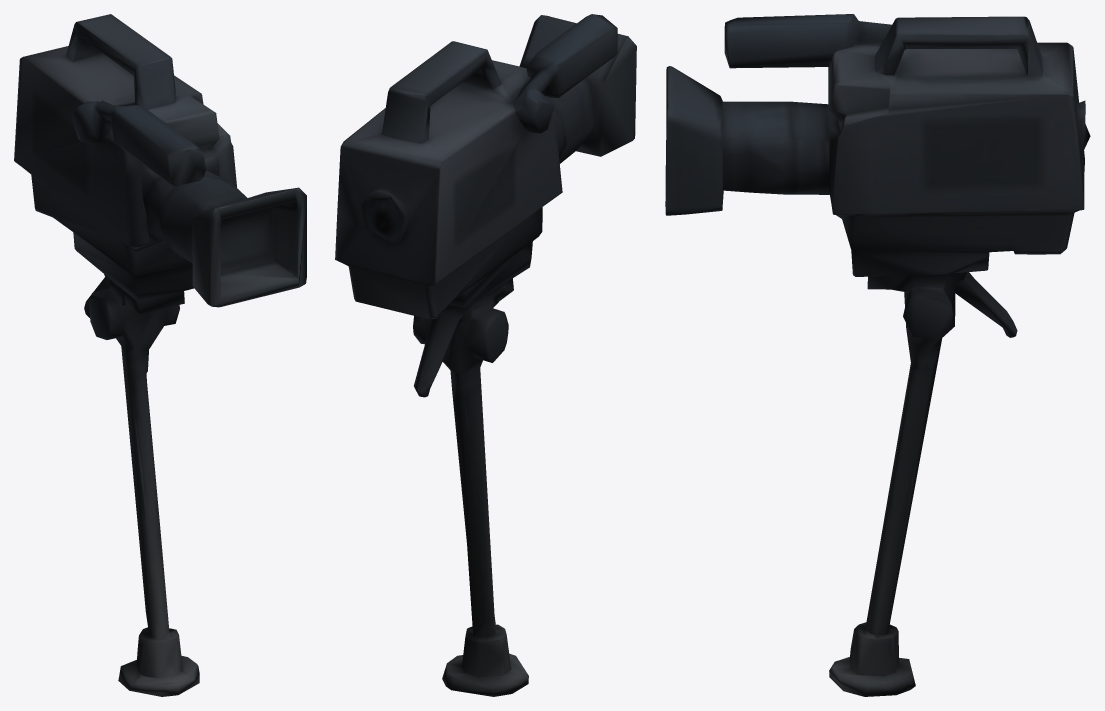
The model's file is broadcast-camera.glb.
3 renders of one model, left to right at view 1: azimuth 30°, elevation 25°; view 2: azimuth 150°, elevation 25°; view 3: azimuth 270°, elevation 25°, orthographic. The views are drawn at different scales.
Visible parts, largest first — view 1: geometry_0; view 2: geometry_0; view 3: geometry_0.
Part boxes in pixels (x1,y1,x2,y2): geometry_0: [14, 14, 306, 696]; geometry_0: [335, 14, 636, 696]; geometry_0: [665, 14, 1090, 696].
Size of the model in its own units: 0.2208 by 1 by 0.588.
Materials: 1 (1 with a texture image).
